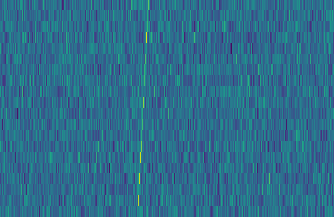signal: (133, 0, 153, 217)
